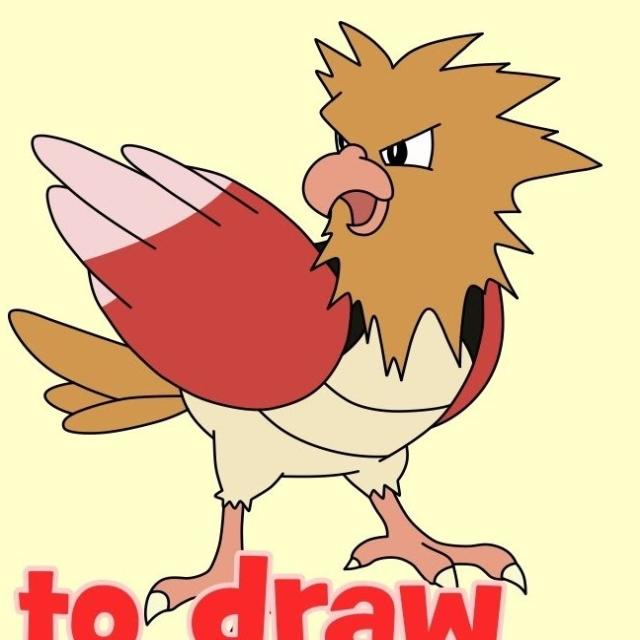Spearow: (66, 36, 534, 574)
